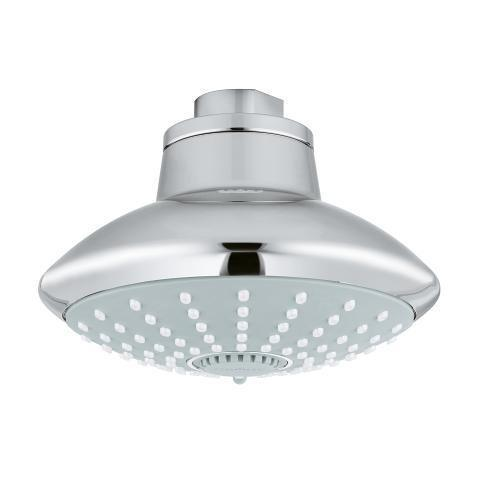Ducha: (43, 70, 441, 393)
